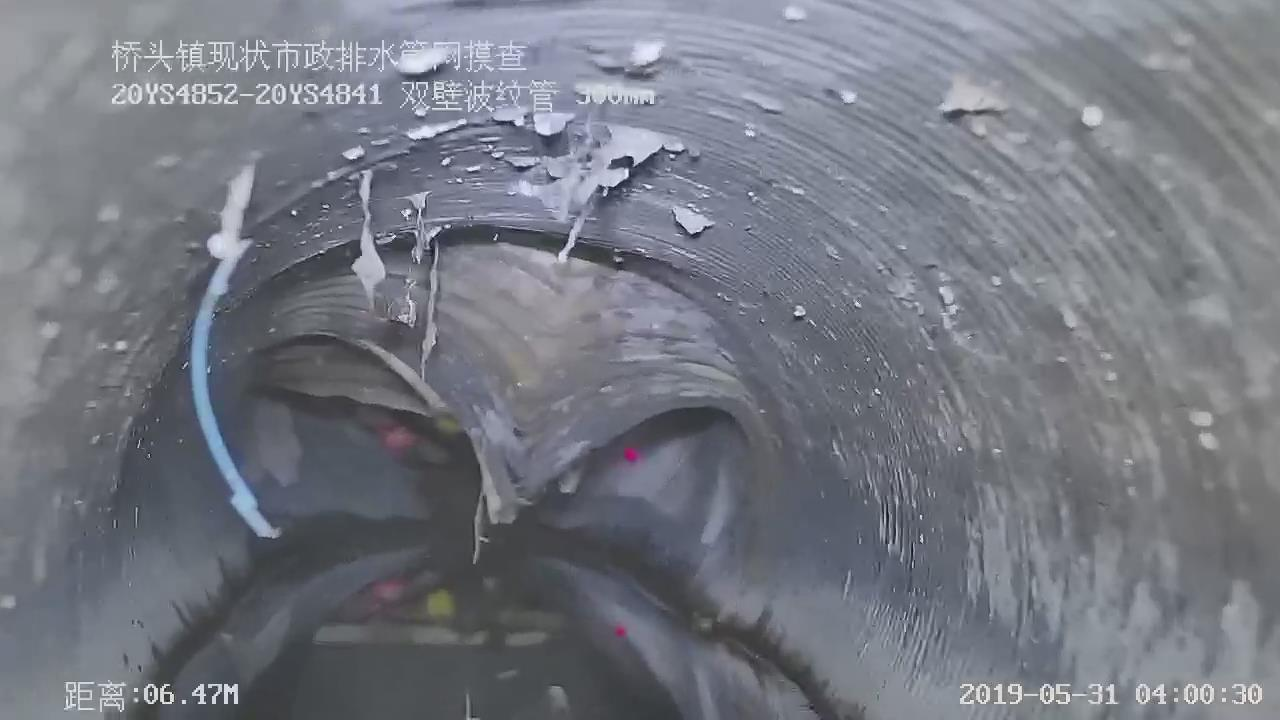PL: (206, 174, 839, 541)
